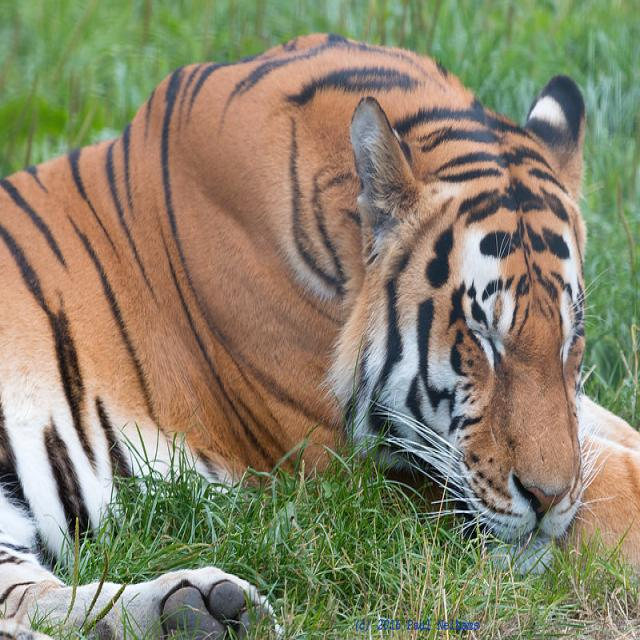Tiger: (0, 34, 637, 636)
